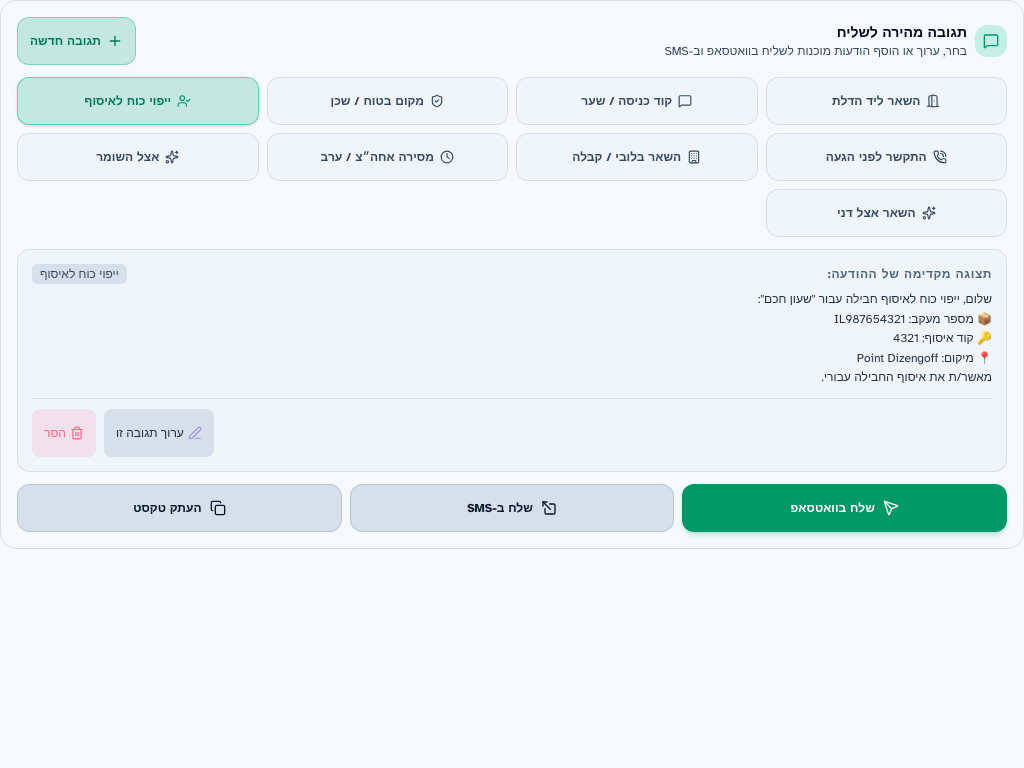
CourierActionHub › allows removing an active template
Expected: the text "השאר ליד הדלת" is shown, [832,93,920,109]
Click the tab "השאר ליד הדלת": click(886, 101) [766,77,1007,125]
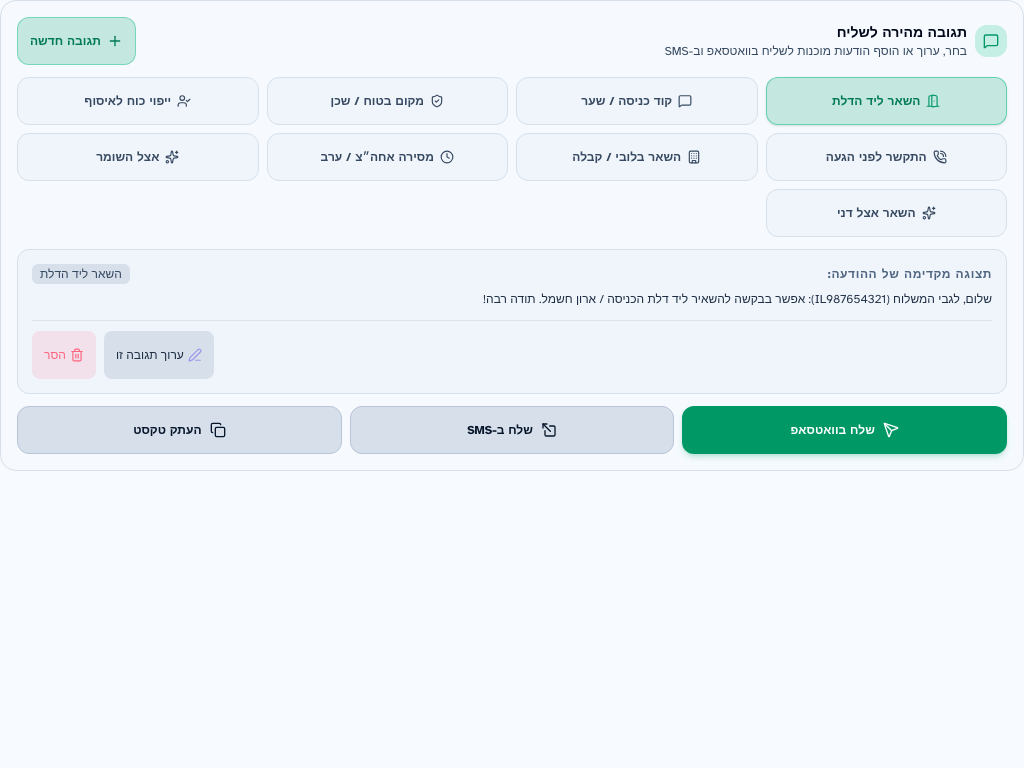
Click the button "הסר": click(64, 354) [32,330,96,378]
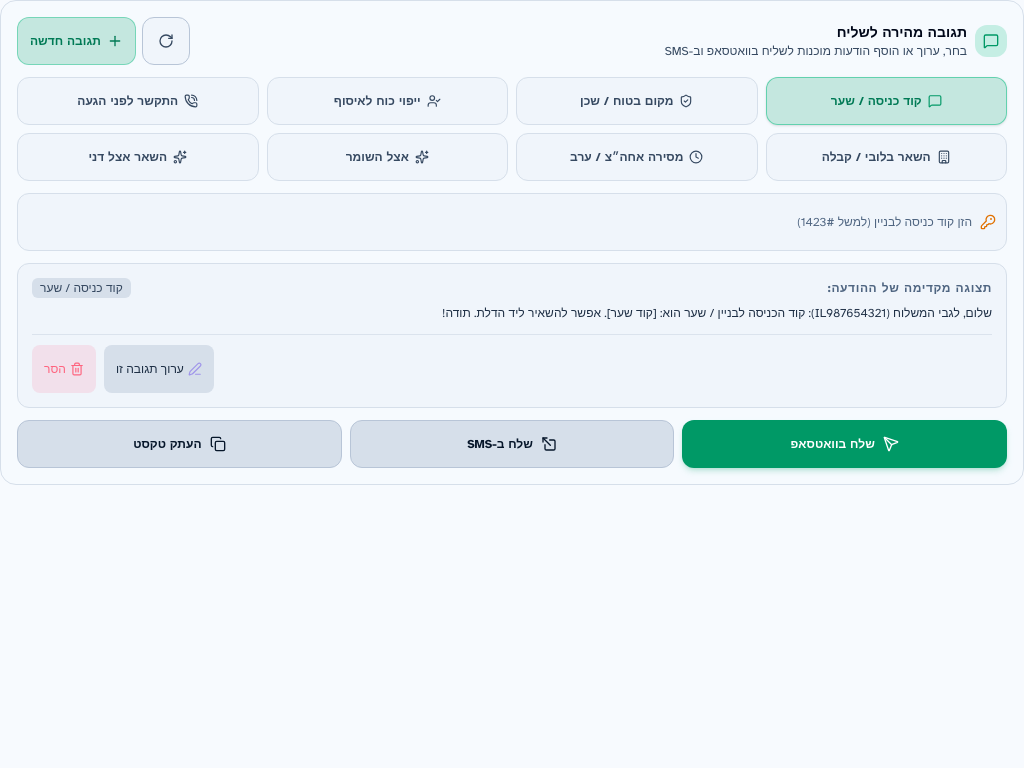
Now the tab "השאר ליד הדלת" is gone
